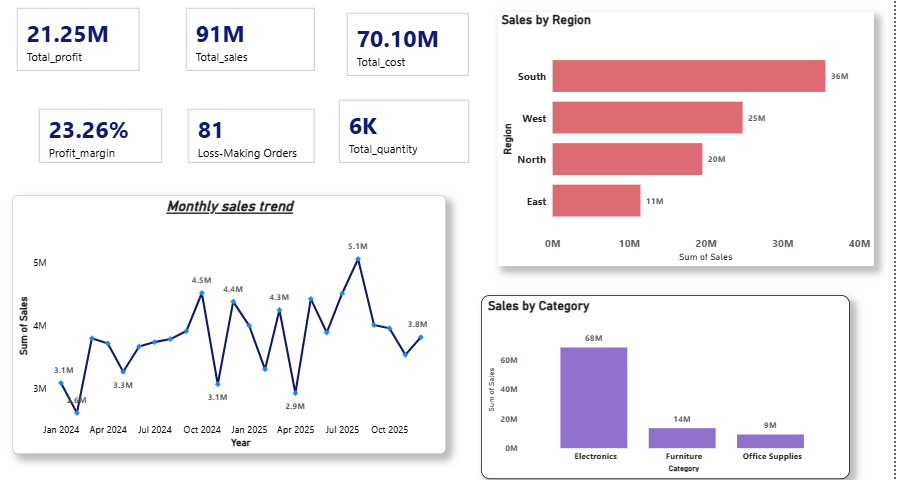

The page's visual inventory and layout, read from the dashboard file:
{"tool":"powerbi","page":{"name":"executive overview","canvas":[1280,720],"ordinal":0},"visuals":[{"type":"cardVisual","fields":{"Data":["Ecommerce_Orders (1).Total_profit"]},"box":[10.1,0,210,124.3],"z":0},{"type":"cardVisual","fields":{"Data":["Ecommerce_Orders (1).Total_sales"]},"box":[252,0,218.4,124.3],"z":1},{"type":"cardVisual","fields":{"Data":["Ecommerce_Orders (1).Total_quantity"]},"box":[470,131.4,220.1,124.3],"z":2},{"type":"cardVisual","fields":{"Data":["Ecommerce_Orders (1).Total_cost"]},"box":[481.4,7.1,208.3,124.3],"z":3},{"type":"cardVisual","fields":{"Data":["Ecommerce_Orders (1).Profit_margin"]},"box":[41.4,144.3,210,111.4],"z":4},{"type":"cardVisual","fields":{"Data":["Ecommerce_Orders (1).Loss-Making Orders"]},"box":[254.3,144.3,215.7,111.4],"z":5},{"type":"lineChart","title":"Monthly sales trend ","fields":{"Y":["Sum(Ecommerce_Orders (1).Sales)"],"Category":["Ecommerce_Orders (1).Order_Date.Variation.Date Hierarchy.Year","Ecommerce_Orders (1).Order_Date.Variation.Date Hierarchy.Month"]},"box":[20,284.3,620,370],"z":6},{"type":"barChart","title":"Sales by Region","fields":{"Y":["Sum(Ecommerce_Orders (1).Sales)"],"Category":["Ecommerce_Orders (1).Region"]},"box":[714.3,22.9,537.1,362.9],"z":7},{"type":"columnChart","title":" Sales by Category","fields":{"Y":["Sum(Ecommerce_Orders (1).Sales)"],"Category":["Ecommerce_Products.Category"]},"box":[690,427.1,527.1,262.9],"z":8}]}

Visuals, with their boxes on the page's 1280x720 design canvas (x1, y1, x2, y2). These are canvas units, not pixel positions in the 898x480 screenshot, which may show the page scaled, cropped or inside an application window:
cardVisual - Ecommerce_Orders (1).Total_profit: <bbox>10, 0, 220, 124</bbox>
cardVisual - Ecommerce_Orders (1).Total_sales: <bbox>252, 0, 470, 124</bbox>
cardVisual - Ecommerce_Orders (1).Total_quantity: <bbox>470, 131, 690, 256</bbox>
cardVisual - Ecommerce_Orders (1).Total_cost: <bbox>481, 7, 690, 131</bbox>
cardVisual - Ecommerce_Orders (1).Profit_margin: <bbox>41, 144, 251, 256</bbox>
cardVisual - Ecommerce_Orders (1).Loss-Making Orders: <bbox>254, 144, 470, 256</bbox>
"Monthly sales trend " lineChart: <bbox>20, 284, 640, 654</bbox>
"Sales by Region" barChart: <bbox>714, 23, 1251, 386</bbox>
" Sales by Category" columnChart: <bbox>690, 427, 1217, 690</bbox>
